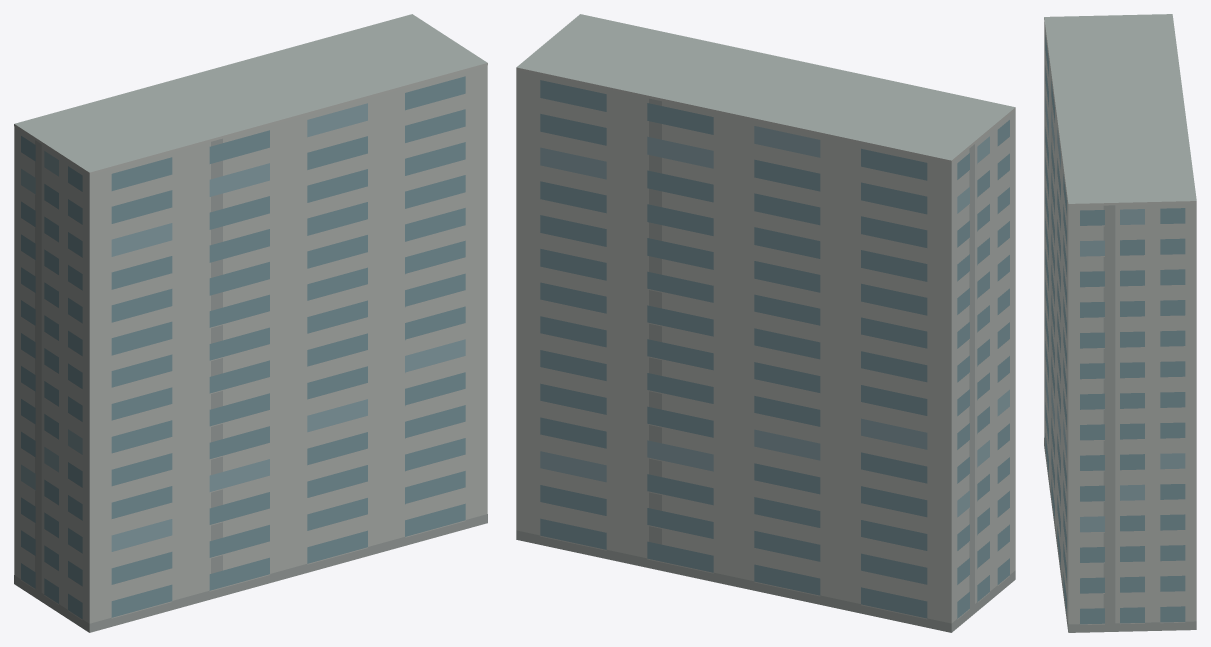
Rendered from residential-f14af531-40d4-4087-89c4-4cc0b6fdc4ac.glb.
The picture shows the model from 3 angles, left to right: view 1: azimuth 30°, elevation 25°; view 2: azimuth 150°, elevation 25°; view 3: azimuth 270°, elevation 25°; orthographic projection. The views are drawn at different scales.
Visible parts, largest first — view 1: residential-f14af531-40d4-4087-89c4-4cc0b6fdc4ac.tmp; view 2: residential-f14af531-40d4-4087-89c4-4cc0b6fdc4ac.tmp; view 3: residential-f14af531-40d4-4087-89c4-4cc0b6fdc4ac.tmp.
Boxes of the visible parts, left/top/right/bottom form: residential-f14af531-40d4-4087-89c4-4cc0b6fdc4ac.tmp: left=14, top=14, right=487, bottom=632; residential-f14af531-40d4-4087-89c4-4cc0b6fdc4ac.tmp: left=516, top=14, right=1015, bottom=632; residential-f14af531-40d4-4087-89c4-4cc0b6fdc4ac.tmp: left=1044, top=14, right=1196, bottom=632.
Bounding box in the file's own units: 40.56 × 42.7 × 13.78.
